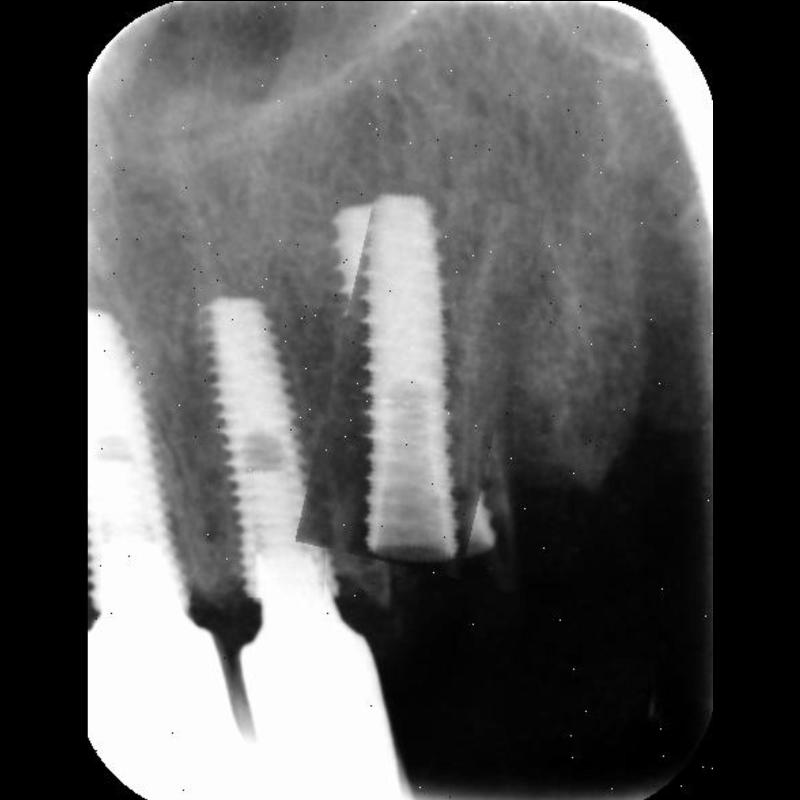Dentium: (315, 182, 525, 572), (196, 285, 332, 599)
